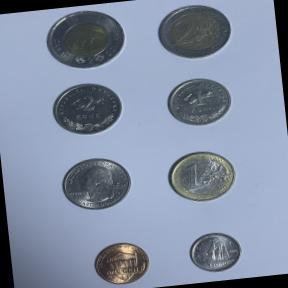1 Euro: (160, 144, 244, 210)
2 Euro: (149, 0, 239, 67)
Canda-10cent-: (183, 226, 248, 278)
Canda-2Dollar-: (39, 3, 133, 76)
Croatia-2Kune-: (45, 76, 130, 140)
US-1cent-: (88, 236, 158, 288)
US-25cent-: (57, 152, 138, 216)
